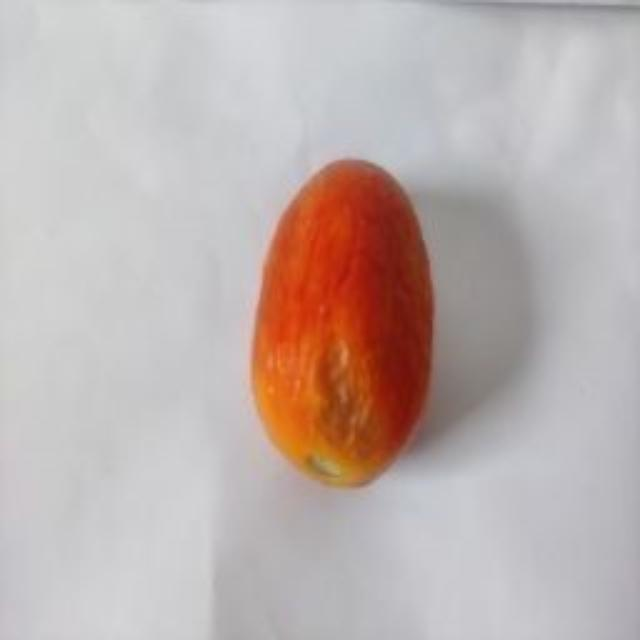defect: (247, 155, 439, 492)
